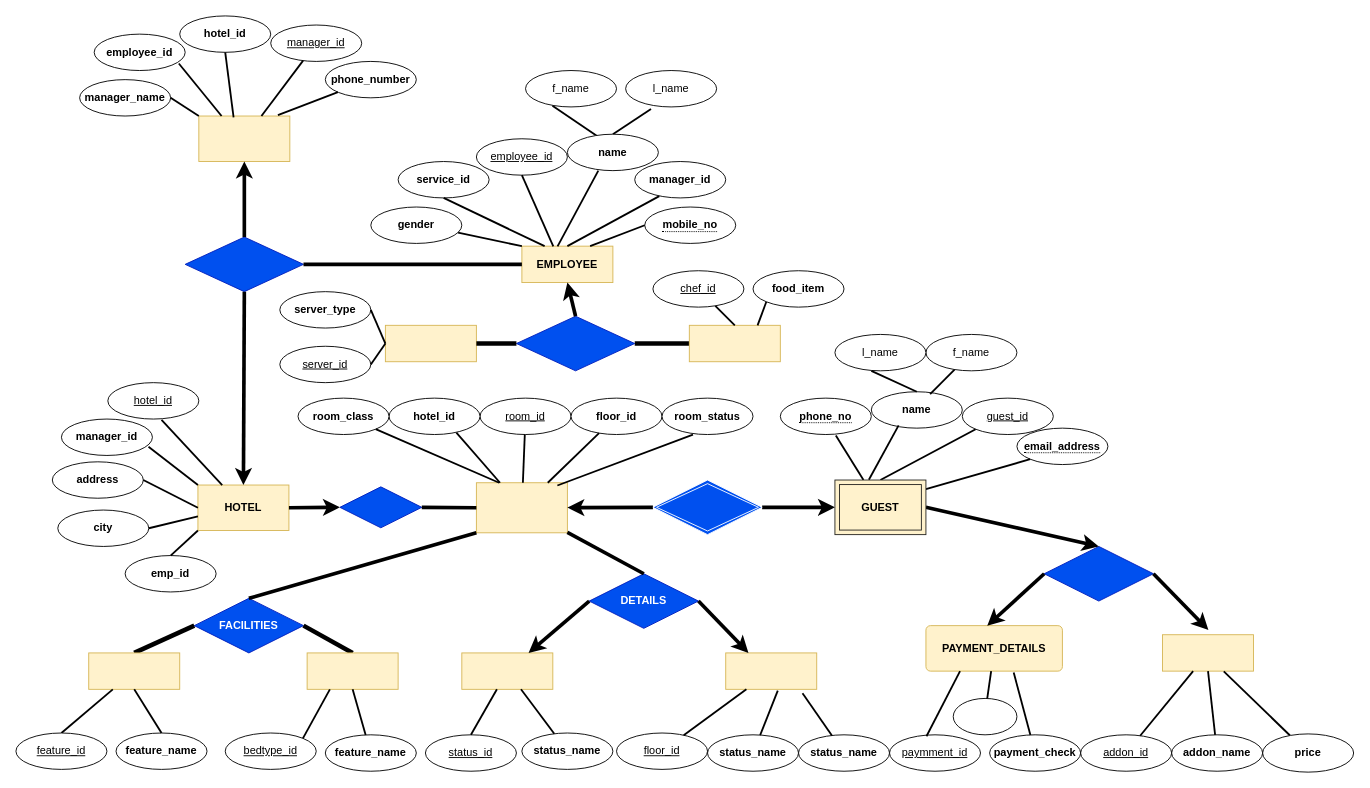
This 1370x788 diagram has some shape labels left out. The centre of each missing label's shape, as x and y in pixels:
ADD_ON: [1208,652]
BEDTYPE: [352,670]
CHECK: [707,507]
CHEF: [734,343]
date: [984,716]
FEATURE: [134,670]
FLOOR: [771,670]
IS A: [575,343]
MANAGER: [244,138]
OWNS: [380,507]
RESERVATION: [1098,573]
ROOM: [521,507]
SERVER: [430,343]
STATUS: [507,670]
WORKS: [243,264]
